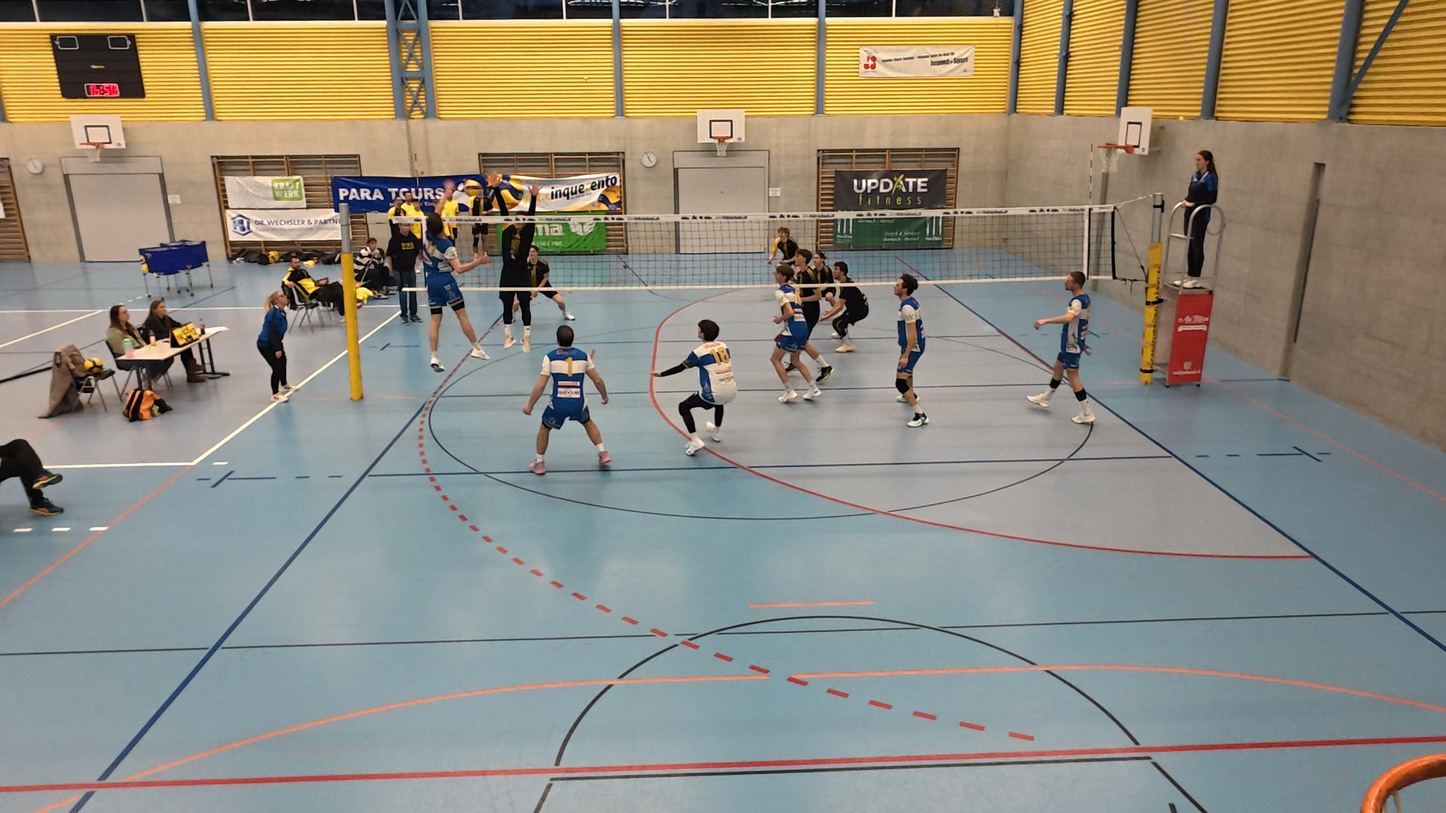Attack: (405, 209, 493, 373)
Block: (488, 170, 542, 358)
Player: (523, 325, 613, 474), (649, 319, 733, 458), (1027, 271, 1099, 433), (770, 286, 829, 404), (785, 242, 831, 380), (890, 273, 930, 427), (508, 240, 579, 320), (801, 249, 842, 359), (825, 261, 873, 354), (769, 221, 798, 312)
ball: (460, 176, 482, 199)
